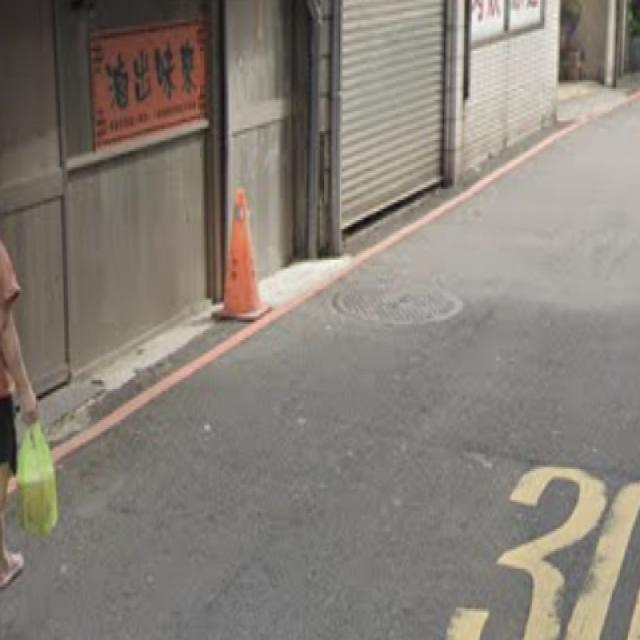cone: (215, 185, 268, 324)
